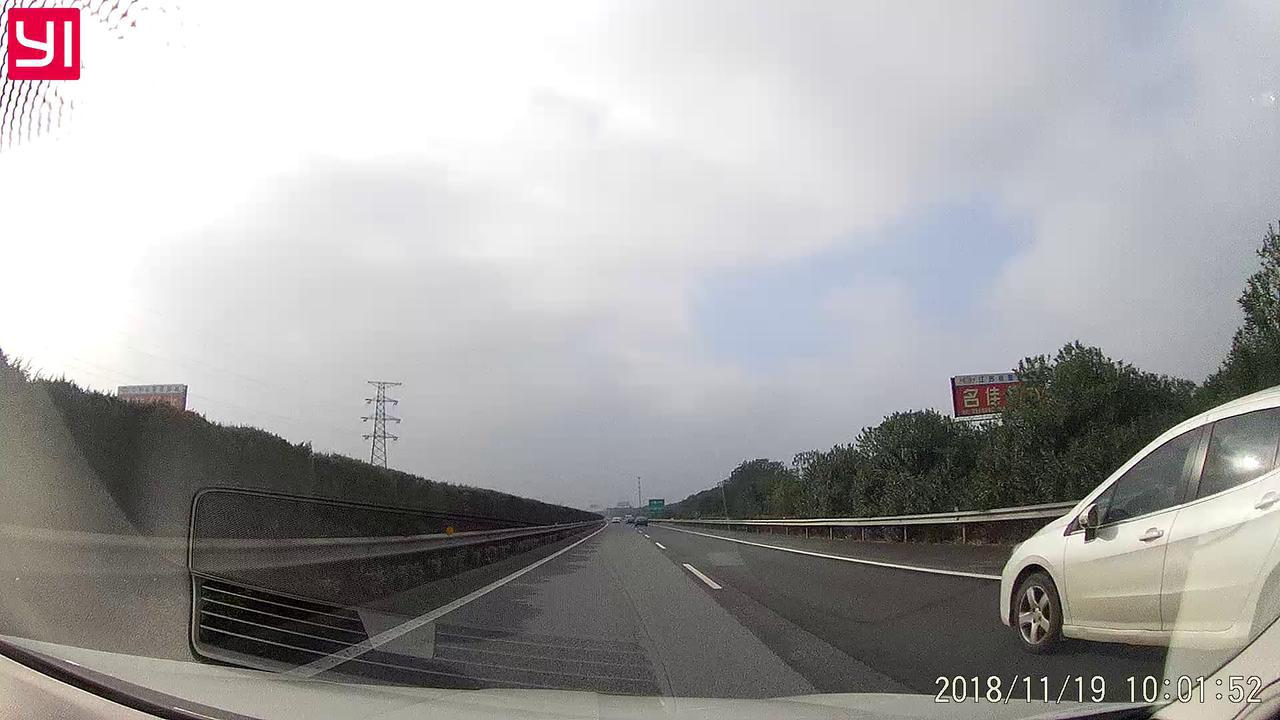car: (967, 387, 1249, 696)
